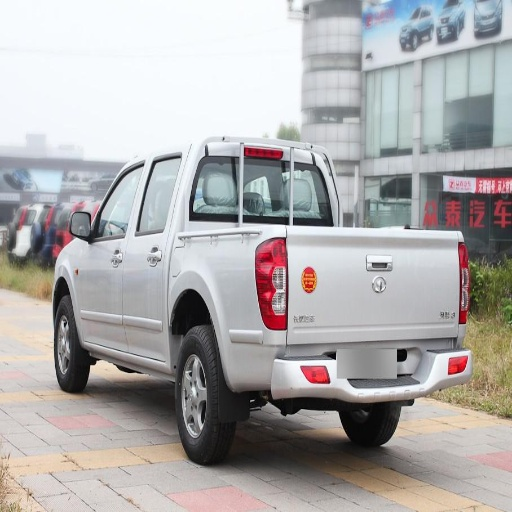back_bumper: (231, 341, 467, 401)
back_left_door: (124, 167, 176, 354)
back_left_light: (255, 238, 286, 329)
trunk: (168, 228, 456, 385)
